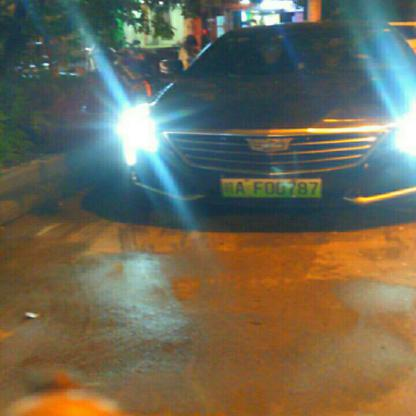lp: (221, 178, 322, 197)
